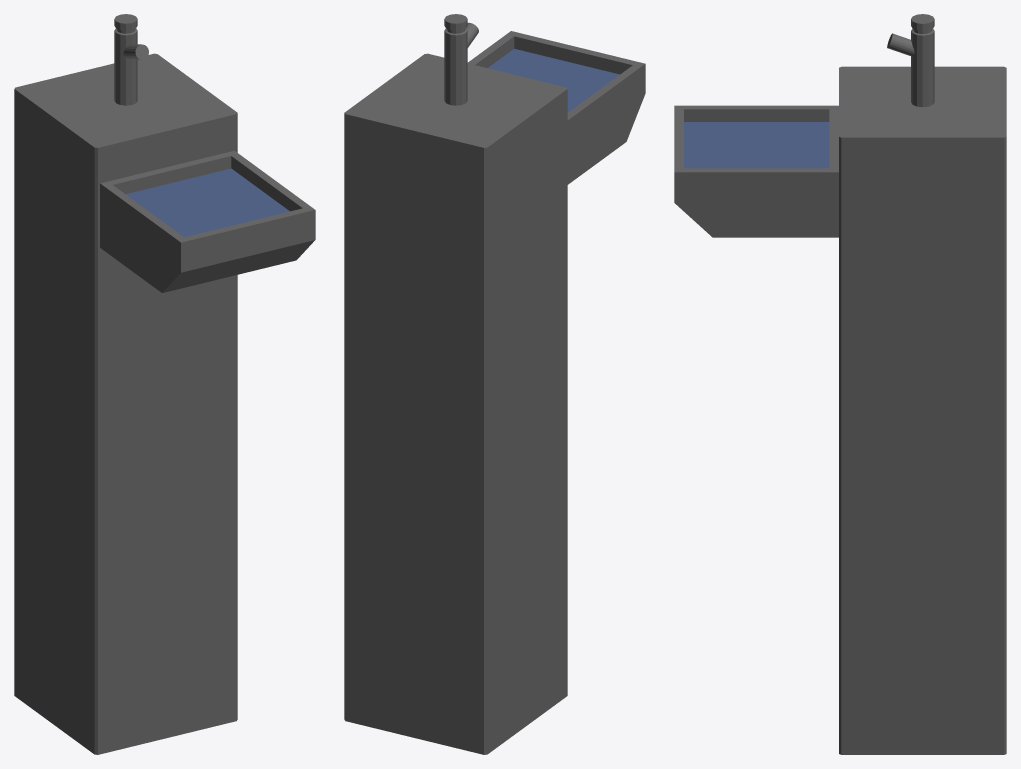
Rendered from Bebedero.fbx.
3 views of the same model, side by side, from view 1: azimuth 30°, elevation 25°; view 2: azimuth 150°, elevation 25°; view 3: azimuth 270°, elevation 25° (orthographic).
Parts seen in each view (by area): view 1: Bebedero; view 2: Bebedero; view 3: Bebedero.
Boxes of the visible parts, x1=… form: Bebedero: x1=14, y1=14, x2=315, y2=754; Bebedero: x1=344, y1=14, x2=645, y2=754; Bebedero: x1=674, y1=14, x2=1006, y2=754.
Bounding box in the file's own units: 9.98 × 45.94 × 19.77.
